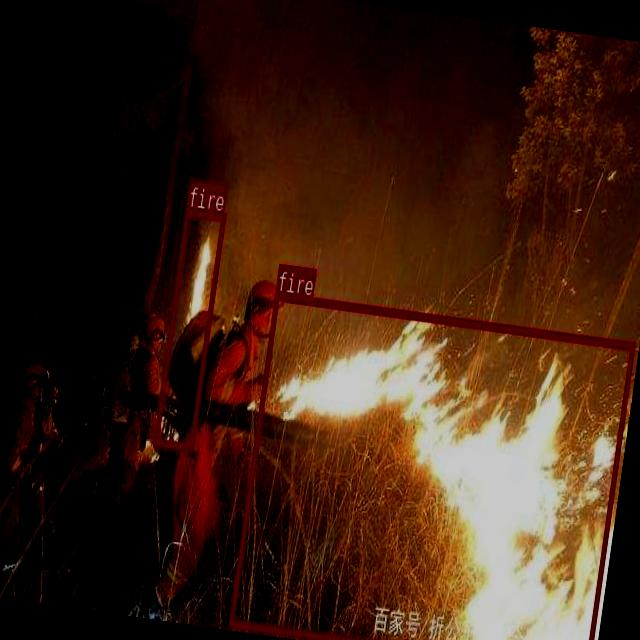fire: (227, 291, 634, 640), (152, 206, 225, 449)
